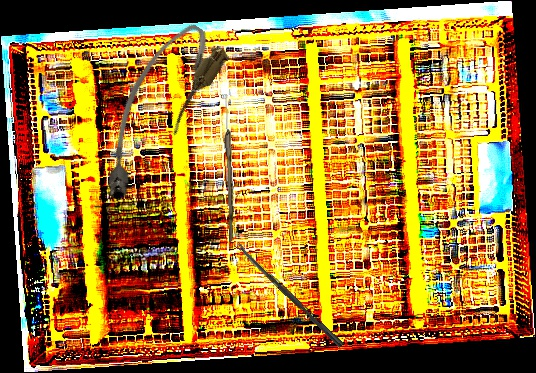Cannula: (75, 14, 234, 209)
Surgical Spoon: (234, 240, 345, 349), (221, 93, 237, 242)
